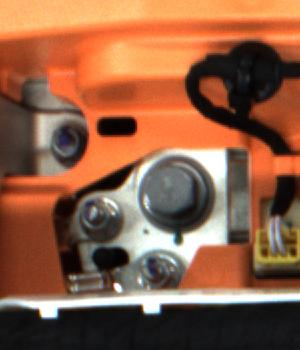nut_b: (133, 150, 222, 235)
screw_s: (138, 249, 176, 290), (80, 197, 114, 236), (49, 122, 79, 161)
